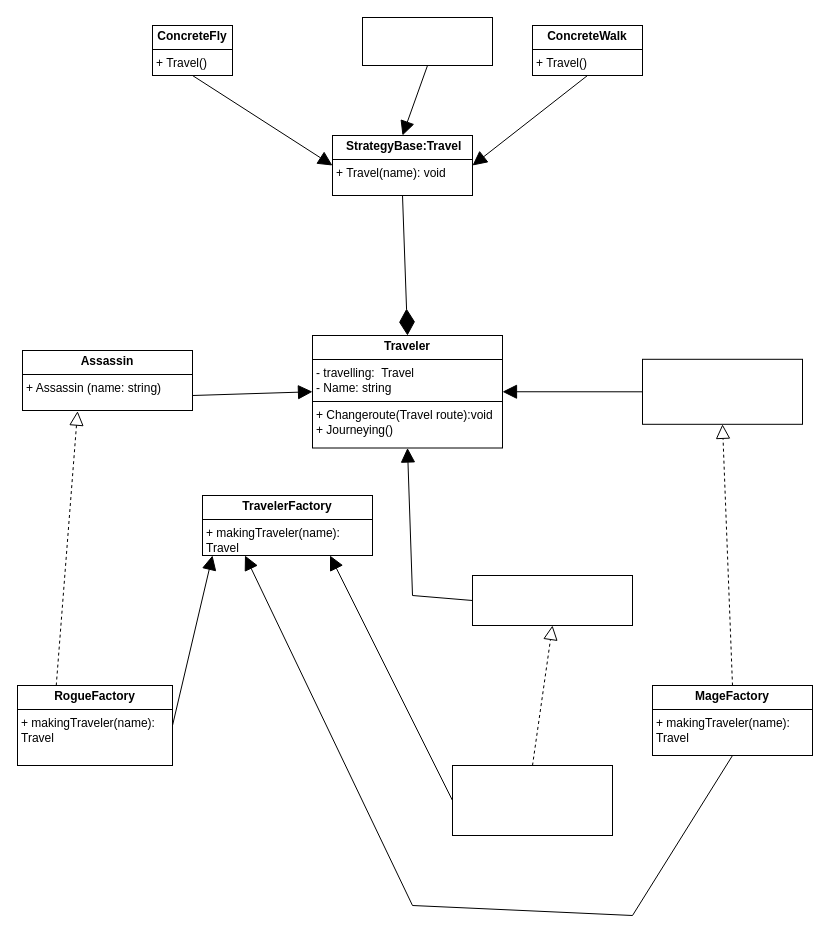
Image size: 830x947. Some labels were removed from this diagram. The centre of each missing label's shape, as x and y in pixels:
"ConcreteHorse + Travel()" belongs at point 427,41.
"KnightFactory + makingTraveler(name): Travel" belongs at point 532,800.
"Warrior +Warrior (name: string)" belongs at point 552,600.
"Wizard +Wizard (name: string)" belongs at point 722,391.
